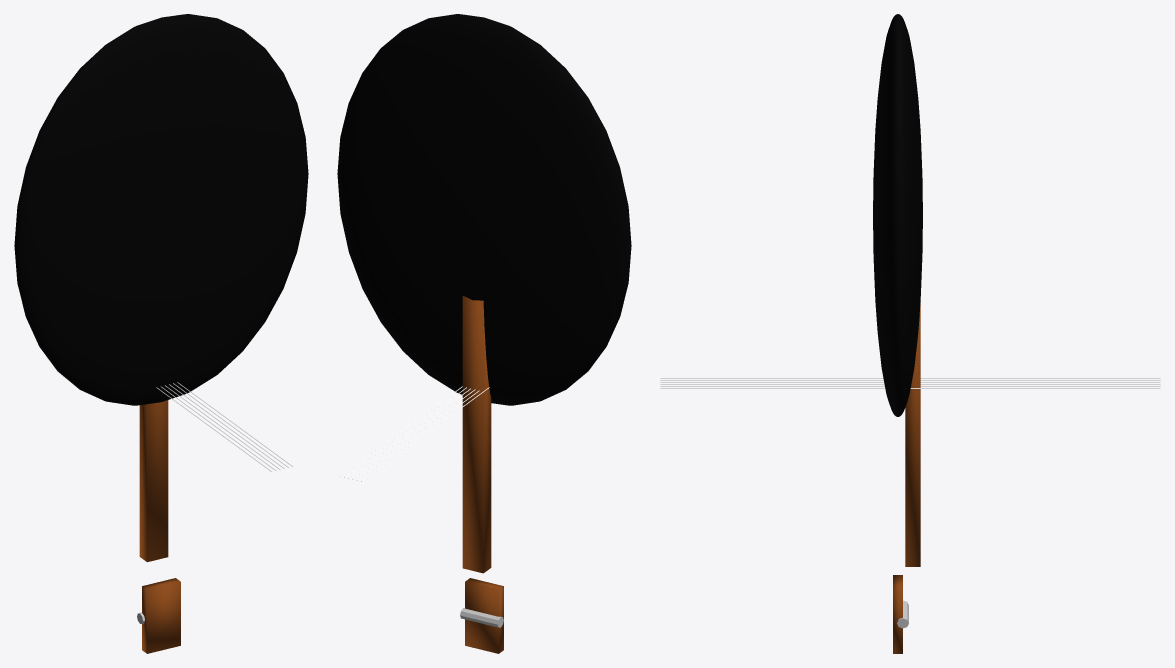
File: fender_precision.obj
3 views of the same model, side by side, from view 1: azimuth 30°, elevation 25°; view 2: azimuth 150°, elevation 25°; view 3: azimuth 270°, elevation 25° (orthographic).
Visible parts, largest first — view 1: bass_guitar_Sphere.002; view 2: bass_guitar_Sphere.002; view 3: bass_guitar_Sphere.002.
Boxes of the visible parts, x1,y1,x2,y2 form: bass_guitar_Sphere.002: (14, 14, 308, 653); bass_guitar_Sphere.002: (337, 14, 631, 653); bass_guitar_Sphere.002: (660, 14, 1160, 653).
Bounding box in the file's own units: 0.8 × 1.64 × 1.2.
